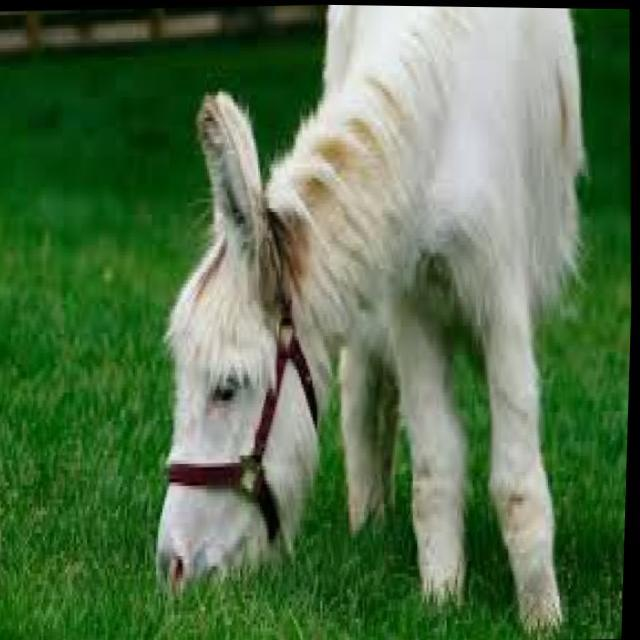Donkey: (106, 1, 614, 640)
